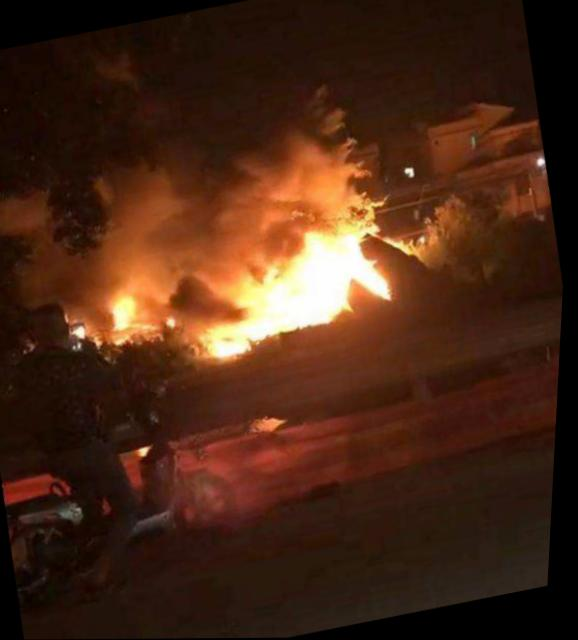fire: (100, 217, 422, 380)
